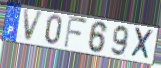0: (44, 13, 64, 46)
6: (88, 20, 108, 54)
9: (111, 24, 130, 57)
F: (62, 14, 89, 50)
V: (22, 9, 45, 43)
X: (129, 27, 155, 62)
